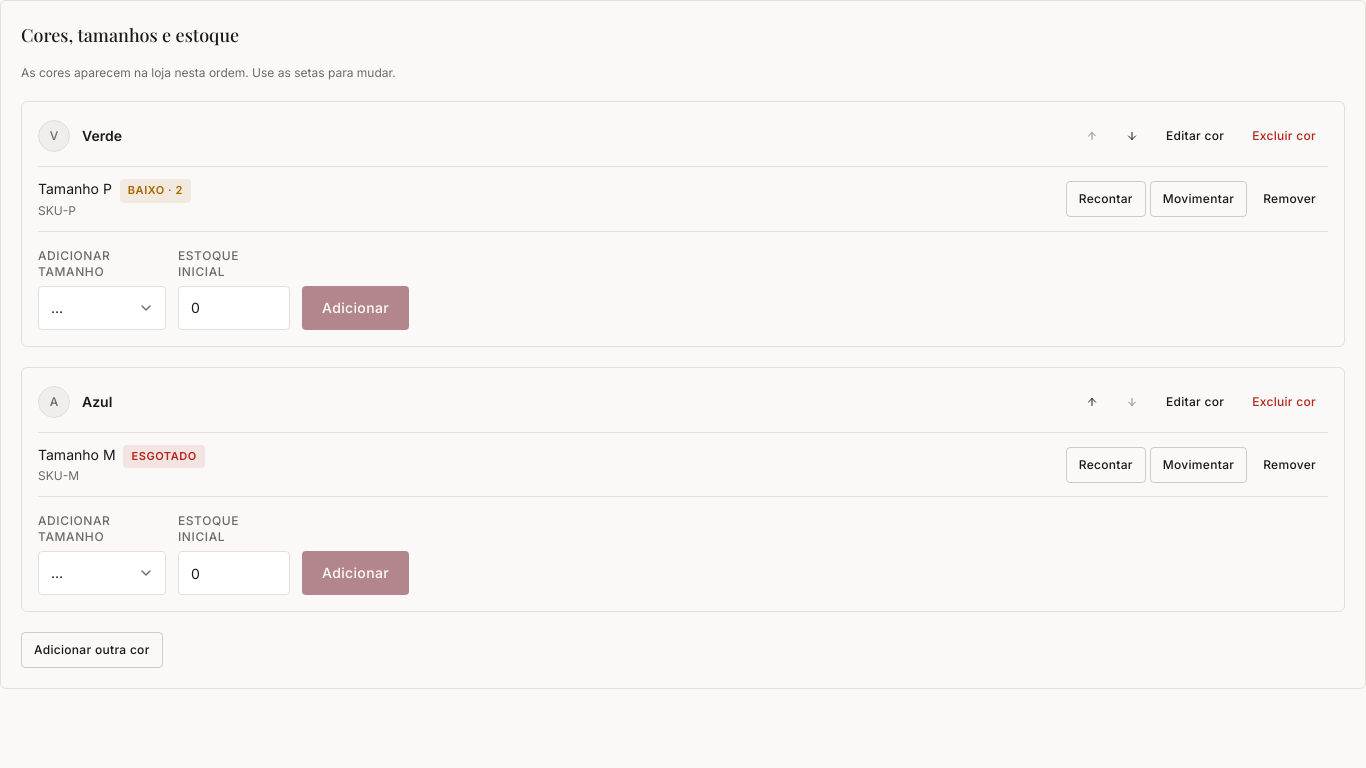
ProductVariantsManager › cores › excluir cor pede confirmacao (com tamanhos e estoque) e avisa quem esta em volta
Click the button with aria-label "Excluir cor Verde" at coordinates (1284, 136), box [1240,118,1328,154]
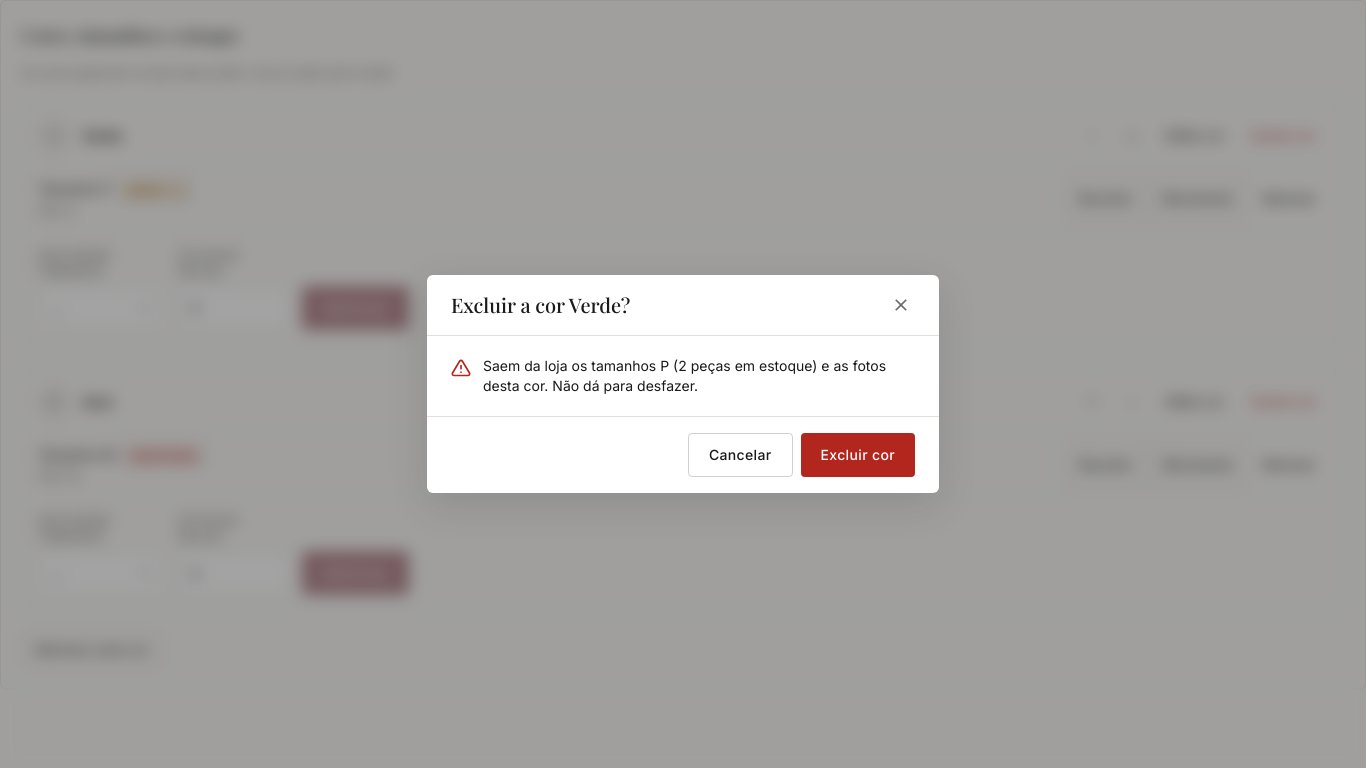
Check: the text "tamanhos P (2 peças em estoque)" is shown, box [483,357,886,394]
Click the button "Excluir cor" at coordinates (858, 455), box [800,433,915,477]
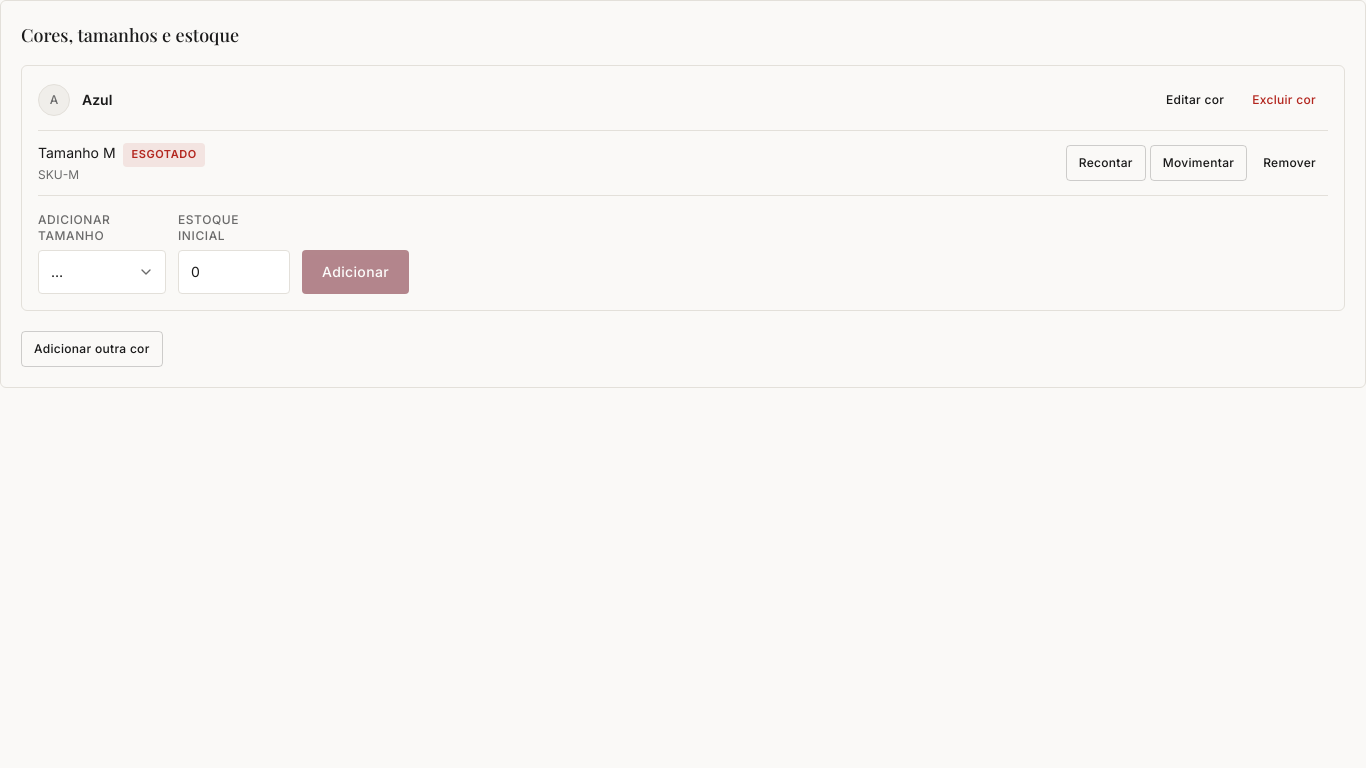
Check: the heading "cor Verde" is gone
